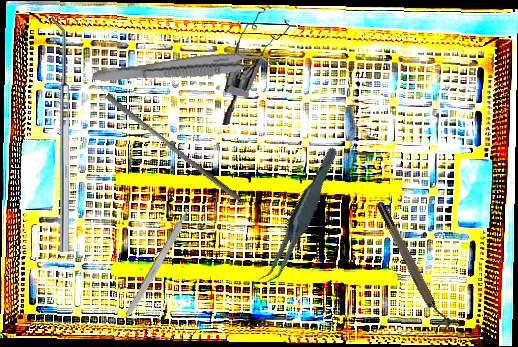Fixation Ring: (373, 197, 454, 335)
Pusher: (101, 92, 246, 203)
Scalpel Handle: (122, 207, 194, 322)
Spatula Surgical: (51, 17, 69, 252)
Speculum: (220, 4, 293, 130)
Tissue Forceps: (237, 145, 364, 289), (92, 47, 274, 93)
